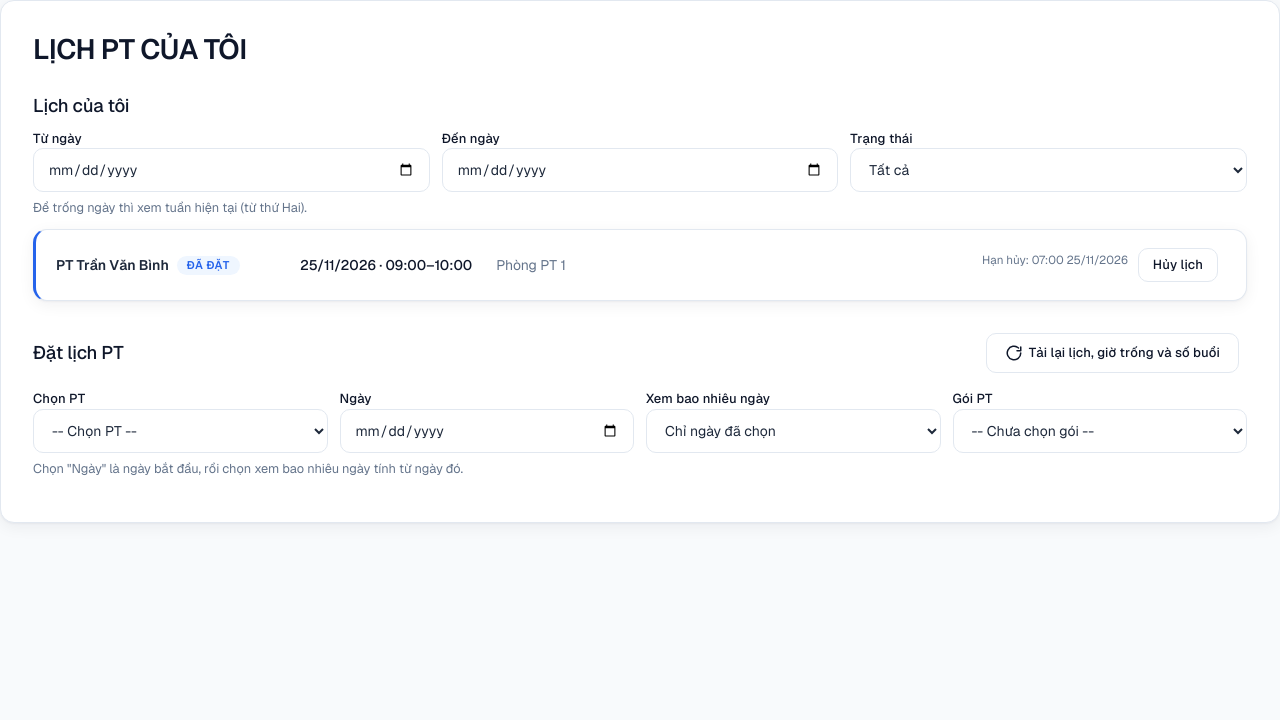
Test: US-29 bước 3: Member hủy buổi PT trên trang /member/pt-bookings › US-29-TC01: bấm "Hủy lịch" mở bảng "Xác nhận hủy lịch" có PT, ngày, giờ VN, hạn hủy; "Đóng" không gửi gì
Click the button "Hủy lịch" at (1178, 265), box 1138,248 -> 1218,282
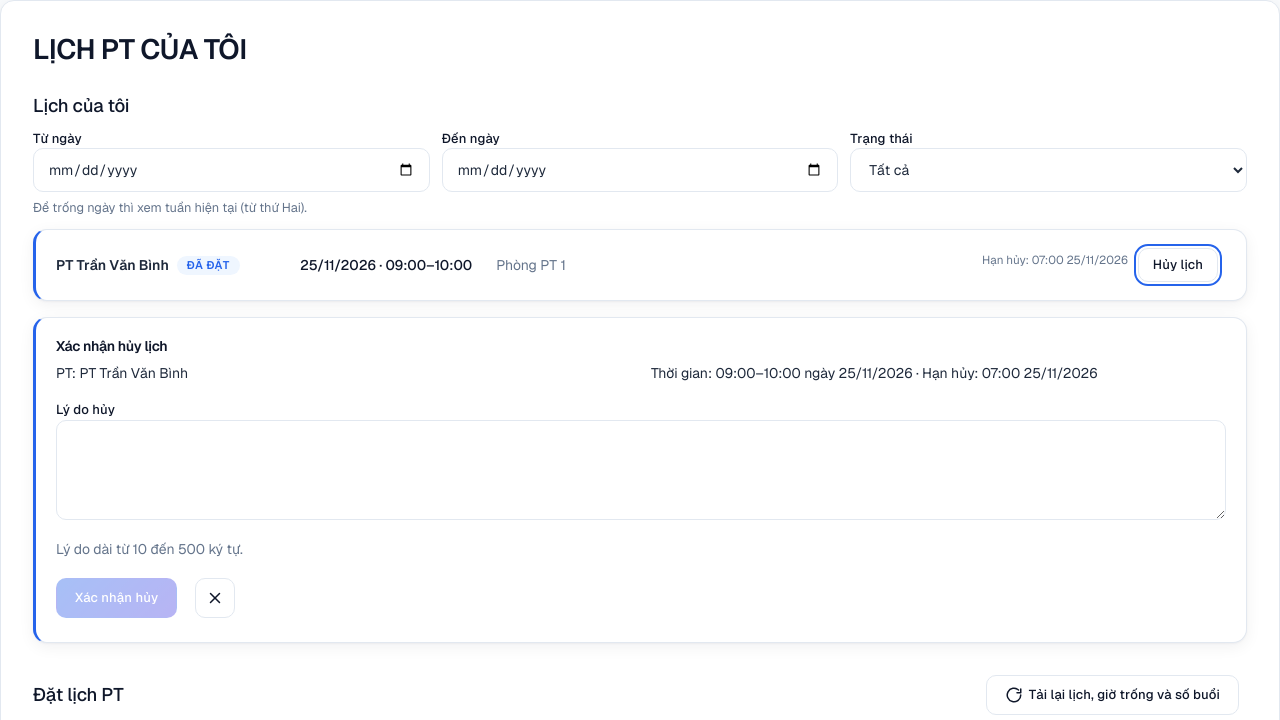
Expected: the list item "PT: PT Trần Văn Bình" is shown, 56,364 -> 188,382
Expected: the list item "25/11/2026" is shown, 839,364 -> 912,382
Expected: the list item that starts with "Thời gian:" is shown, 716,364 -> 801,382
Click the button named "Đóng" at (215, 598), box 195,578 -> 235,618
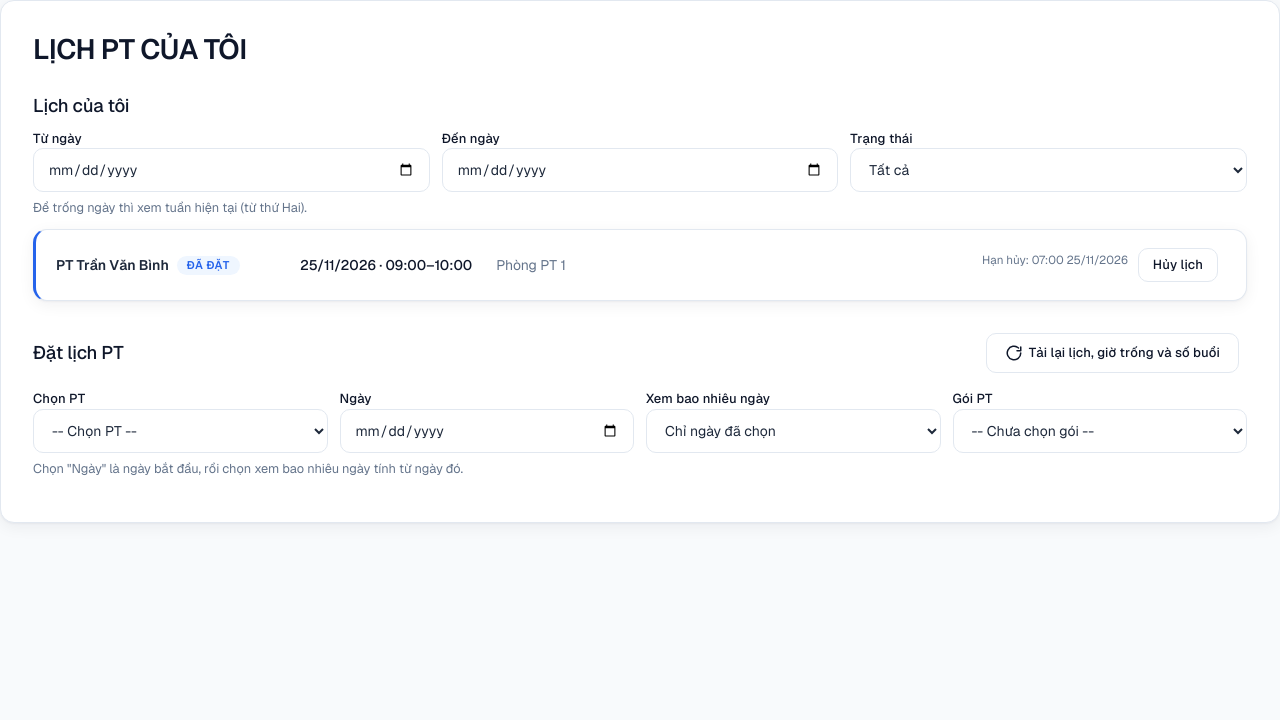
Expected: the heading "Xác nhận hủy lịch" is gone
